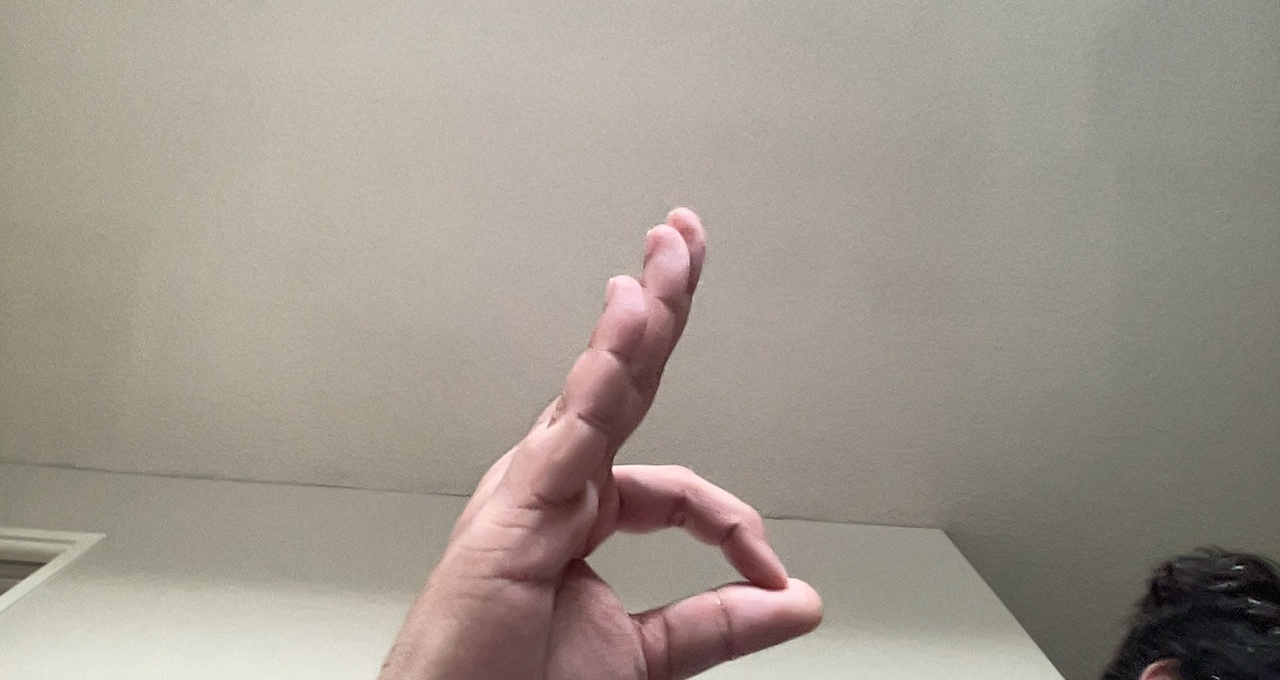ok: (386, 200, 828, 678)
